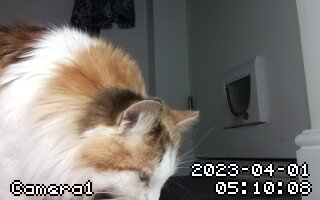clara: (4, 26, 198, 200)
